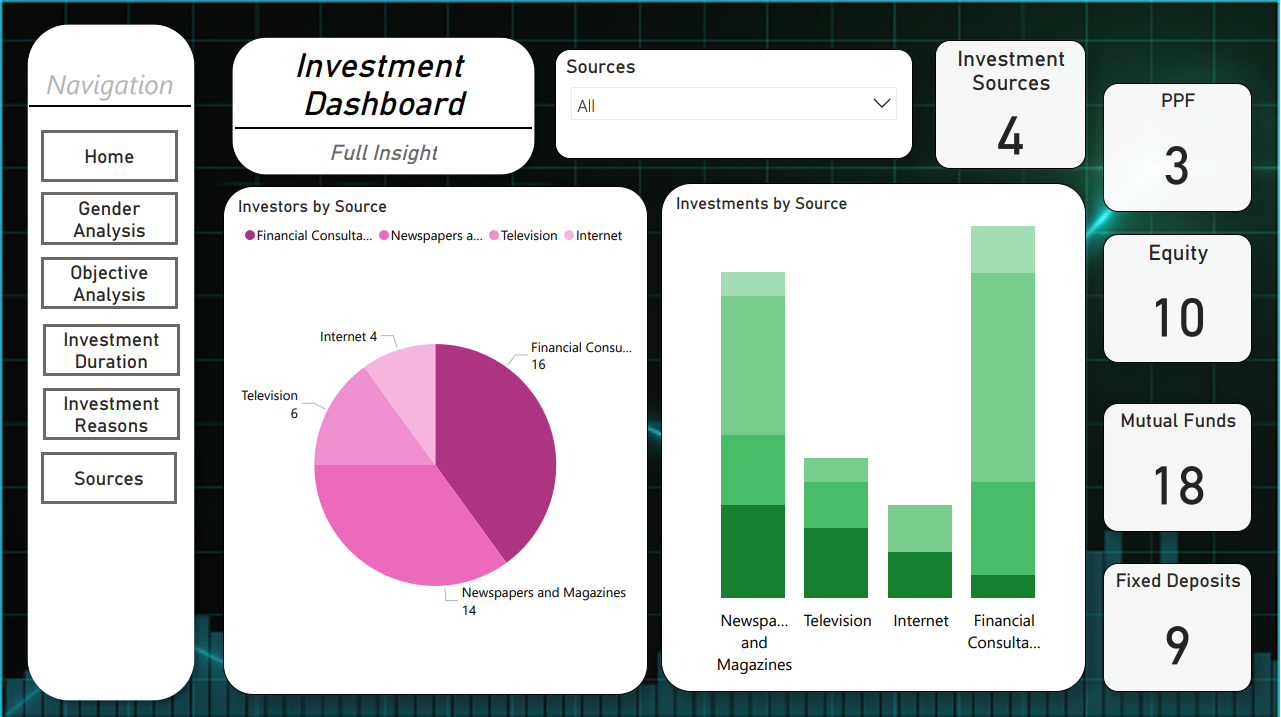

Layout of this report page (visuals, bound fields, positions):
{"tool":"powerbi","page":{"name":"Sources","canvas":[1280,720],"ordinal":5},"visuals":[{"type":"shape","box":[19.2,16.5,183.9,693],"z":0},{"type":"textbox","box":[28.8,60.4,161.9,46.7],"z":1000},{"type":"shape","box":[28.8,83.7,161.9,43.9],"z":2000},{"type":"shape","box":[223.7,28.8,319.7,153.7],"z":3000},{"type":"textbox","box":[246.6,41.3,272.2,85.5],"z":4000},{"type":"shape","box":[234.6,105.7,297.8,43.9],"z":5000},{"type":"actionButton","title":"Home","box":[41.3,129.7,136.8,52.7],"z":6000},{"type":"actionButton","title":"Home","box":[41.3,192.4,136.8,52.7],"z":7000},{"type":"actionButton","title":"Home","box":[41.3,256.6,136.8,52.7],"z":8000},{"type":"actionButton","title":"Home","box":[42.8,323.6,136.8,52.7],"z":9000},{"type":"actionButton","title":"Home","box":[42.8,387.7,136.8,52.7],"z":10000},{"type":"card","title":"Equity","fields":{"Values":["Measure.Count Equity"]},"box":[1102.7,234,149.6,129.1],"z":11000},{"type":"slicer","title":"Sources","fields":{"Values":["Data_set 2.Source"]},"box":[555,39.8,358.3,127.9],"z":12000},{"type":"card","title":"Investment Sources","fields":{"Values":["Count(Data_set 2.Source)"]},"box":[935,39.8,150.8,129.1],"z":13000},{"type":"card","title":"Fixed Deposits","fields":{"Values":["Measure.count FD"]},"box":[1102.7,563.4,149.6,129.1],"z":14000},{"type":"card","title":"Mutual Funds","fields":{"Values":["Measure.Mutual Funds"]},"box":[1102.7,403,149.6,129.1],"z":15000},{"type":"actionButton","title":"Home","box":[41,452.4,136.3,51.9],"z":16000},{"type":"card","title":"PPF","fields":{"Values":["Measure.PPF"]},"box":[1102.7,83.2,149.6,129.1],"z":17000},{"type":"pieChart","title":"Investors by Source","fields":{"Category":["Data_set 2.Source"],"Y":["CountNonNull(Data_set 2.age)"]},"box":[223.2,185.8,424.7,509.1],"z":18000},{"type":"columnChart","title":"Investments by Source","fields":{"Category":["Data_set 2.Source"],"Y":["Measure.Count Equity","Measure.count FD","Measure.Mutual Funds","Measure.PPF"]},"box":[661.1,183.4,424.7,509.1],"z":19000}]}

Visuals, with their boxes in screenshot pixels (x1, y1, x2, y2), scaled from the page's 1280x720 canvas onto the 1281x717 screenshot:
shape: [left=19, top=16, right=203, bottom=707]
textbox: [left=29, top=60, right=191, bottom=107]
shape: [left=29, top=83, right=191, bottom=127]
shape: [left=224, top=29, right=544, bottom=182]
textbox: [left=247, top=41, right=519, bottom=126]
shape: [left=235, top=105, right=533, bottom=149]
"Home" actionButton: [left=41, top=129, right=178, bottom=182]
"Home" actionButton: [left=41, top=192, right=178, bottom=244]
"Home" actionButton: [left=41, top=256, right=178, bottom=308]
"Home" actionButton: [left=43, top=322, right=180, bottom=375]
"Home" actionButton: [left=43, top=386, right=180, bottom=439]
"Equity" card: [left=1104, top=233, right=1253, bottom=362]
"Sources" slicer: [left=555, top=40, right=914, bottom=167]
"Investment Sources" card: [left=936, top=40, right=1087, bottom=168]
"Fixed Deposits" card: [left=1104, top=561, right=1253, bottom=690]
"Mutual Funds" card: [left=1104, top=401, right=1253, bottom=530]
"Home" actionButton: [left=41, top=451, right=177, bottom=502]
"PPF" card: [left=1104, top=83, right=1253, bottom=211]
"Investors by Source" pieChart: [left=223, top=185, right=648, bottom=692]
"Investments by Source" columnChart: [left=662, top=183, right=1087, bottom=690]
